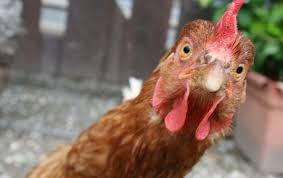Gà/Chicken: (106, 1, 283, 177)
